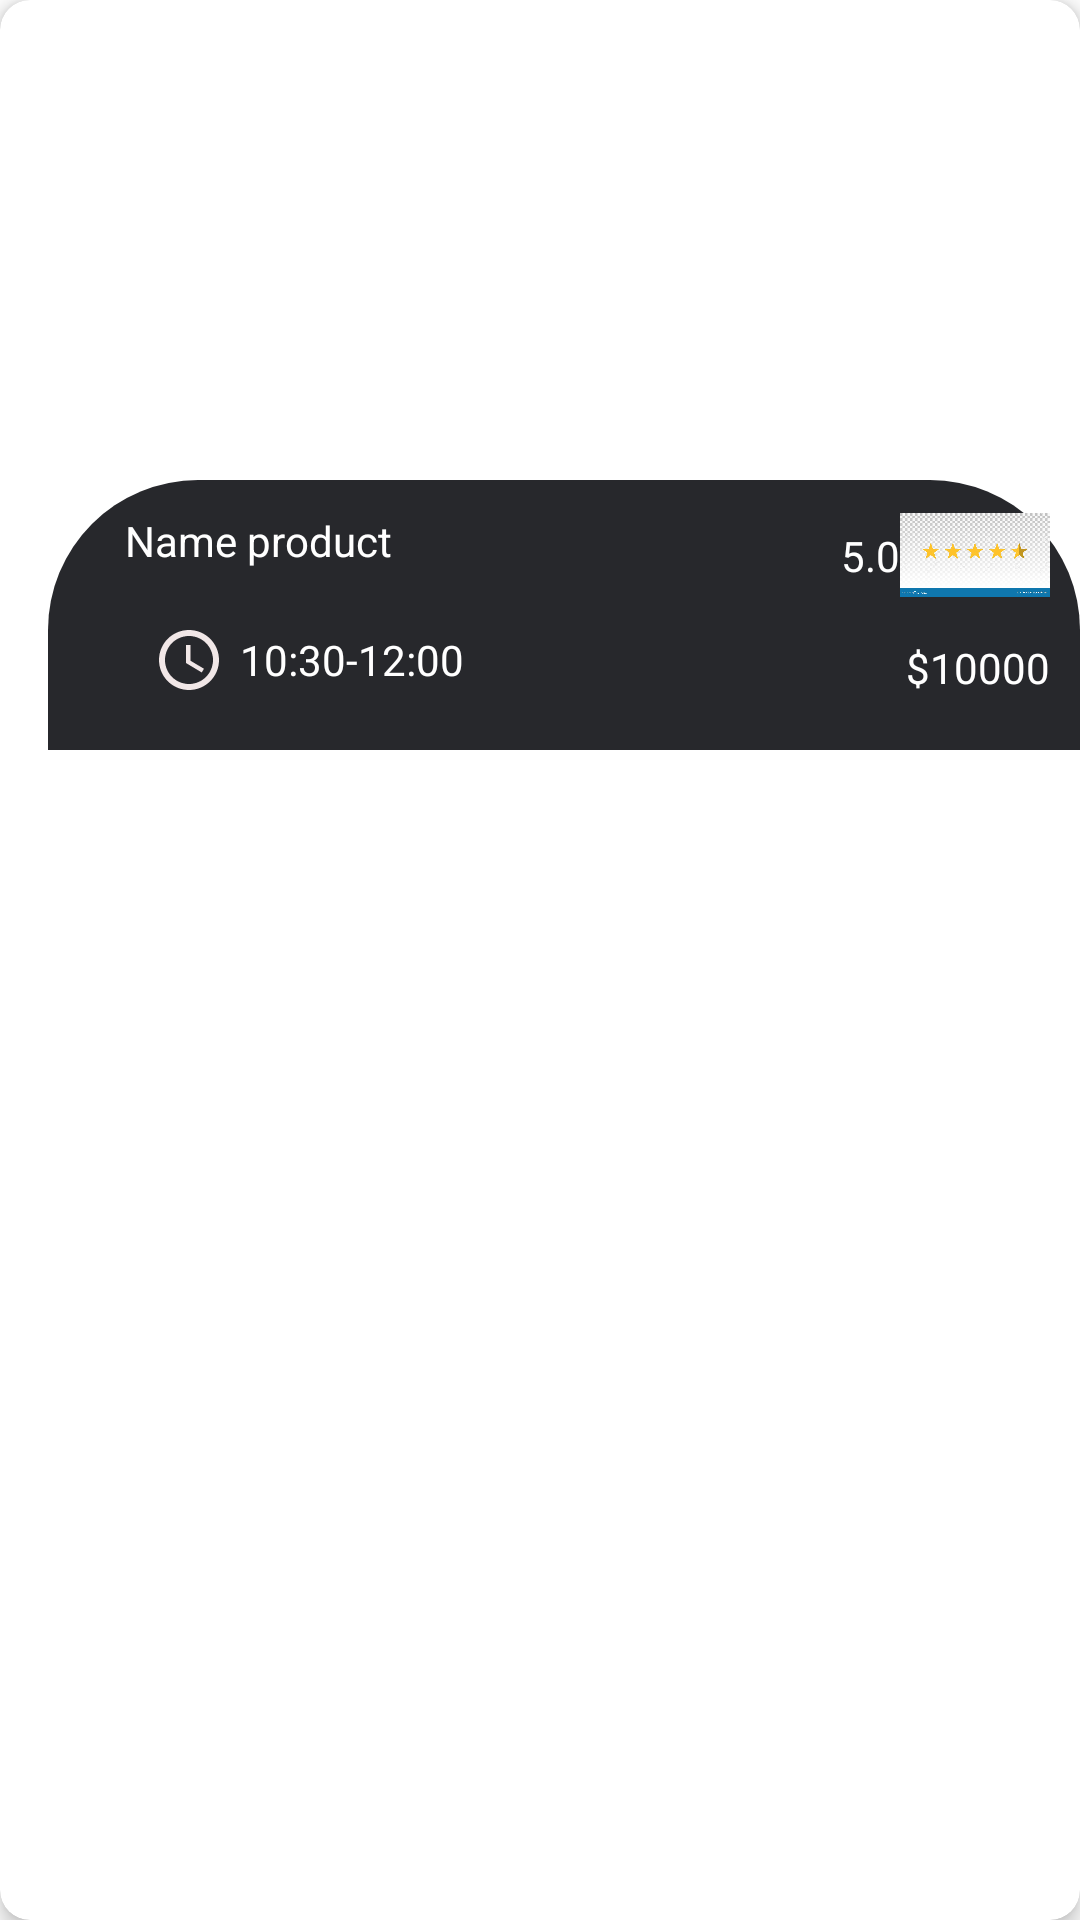

Point at icon controls on the screen. Image size 1080px×1920px, points as [x,y].
access time: [189,660]
ratingbar: [975,538]
